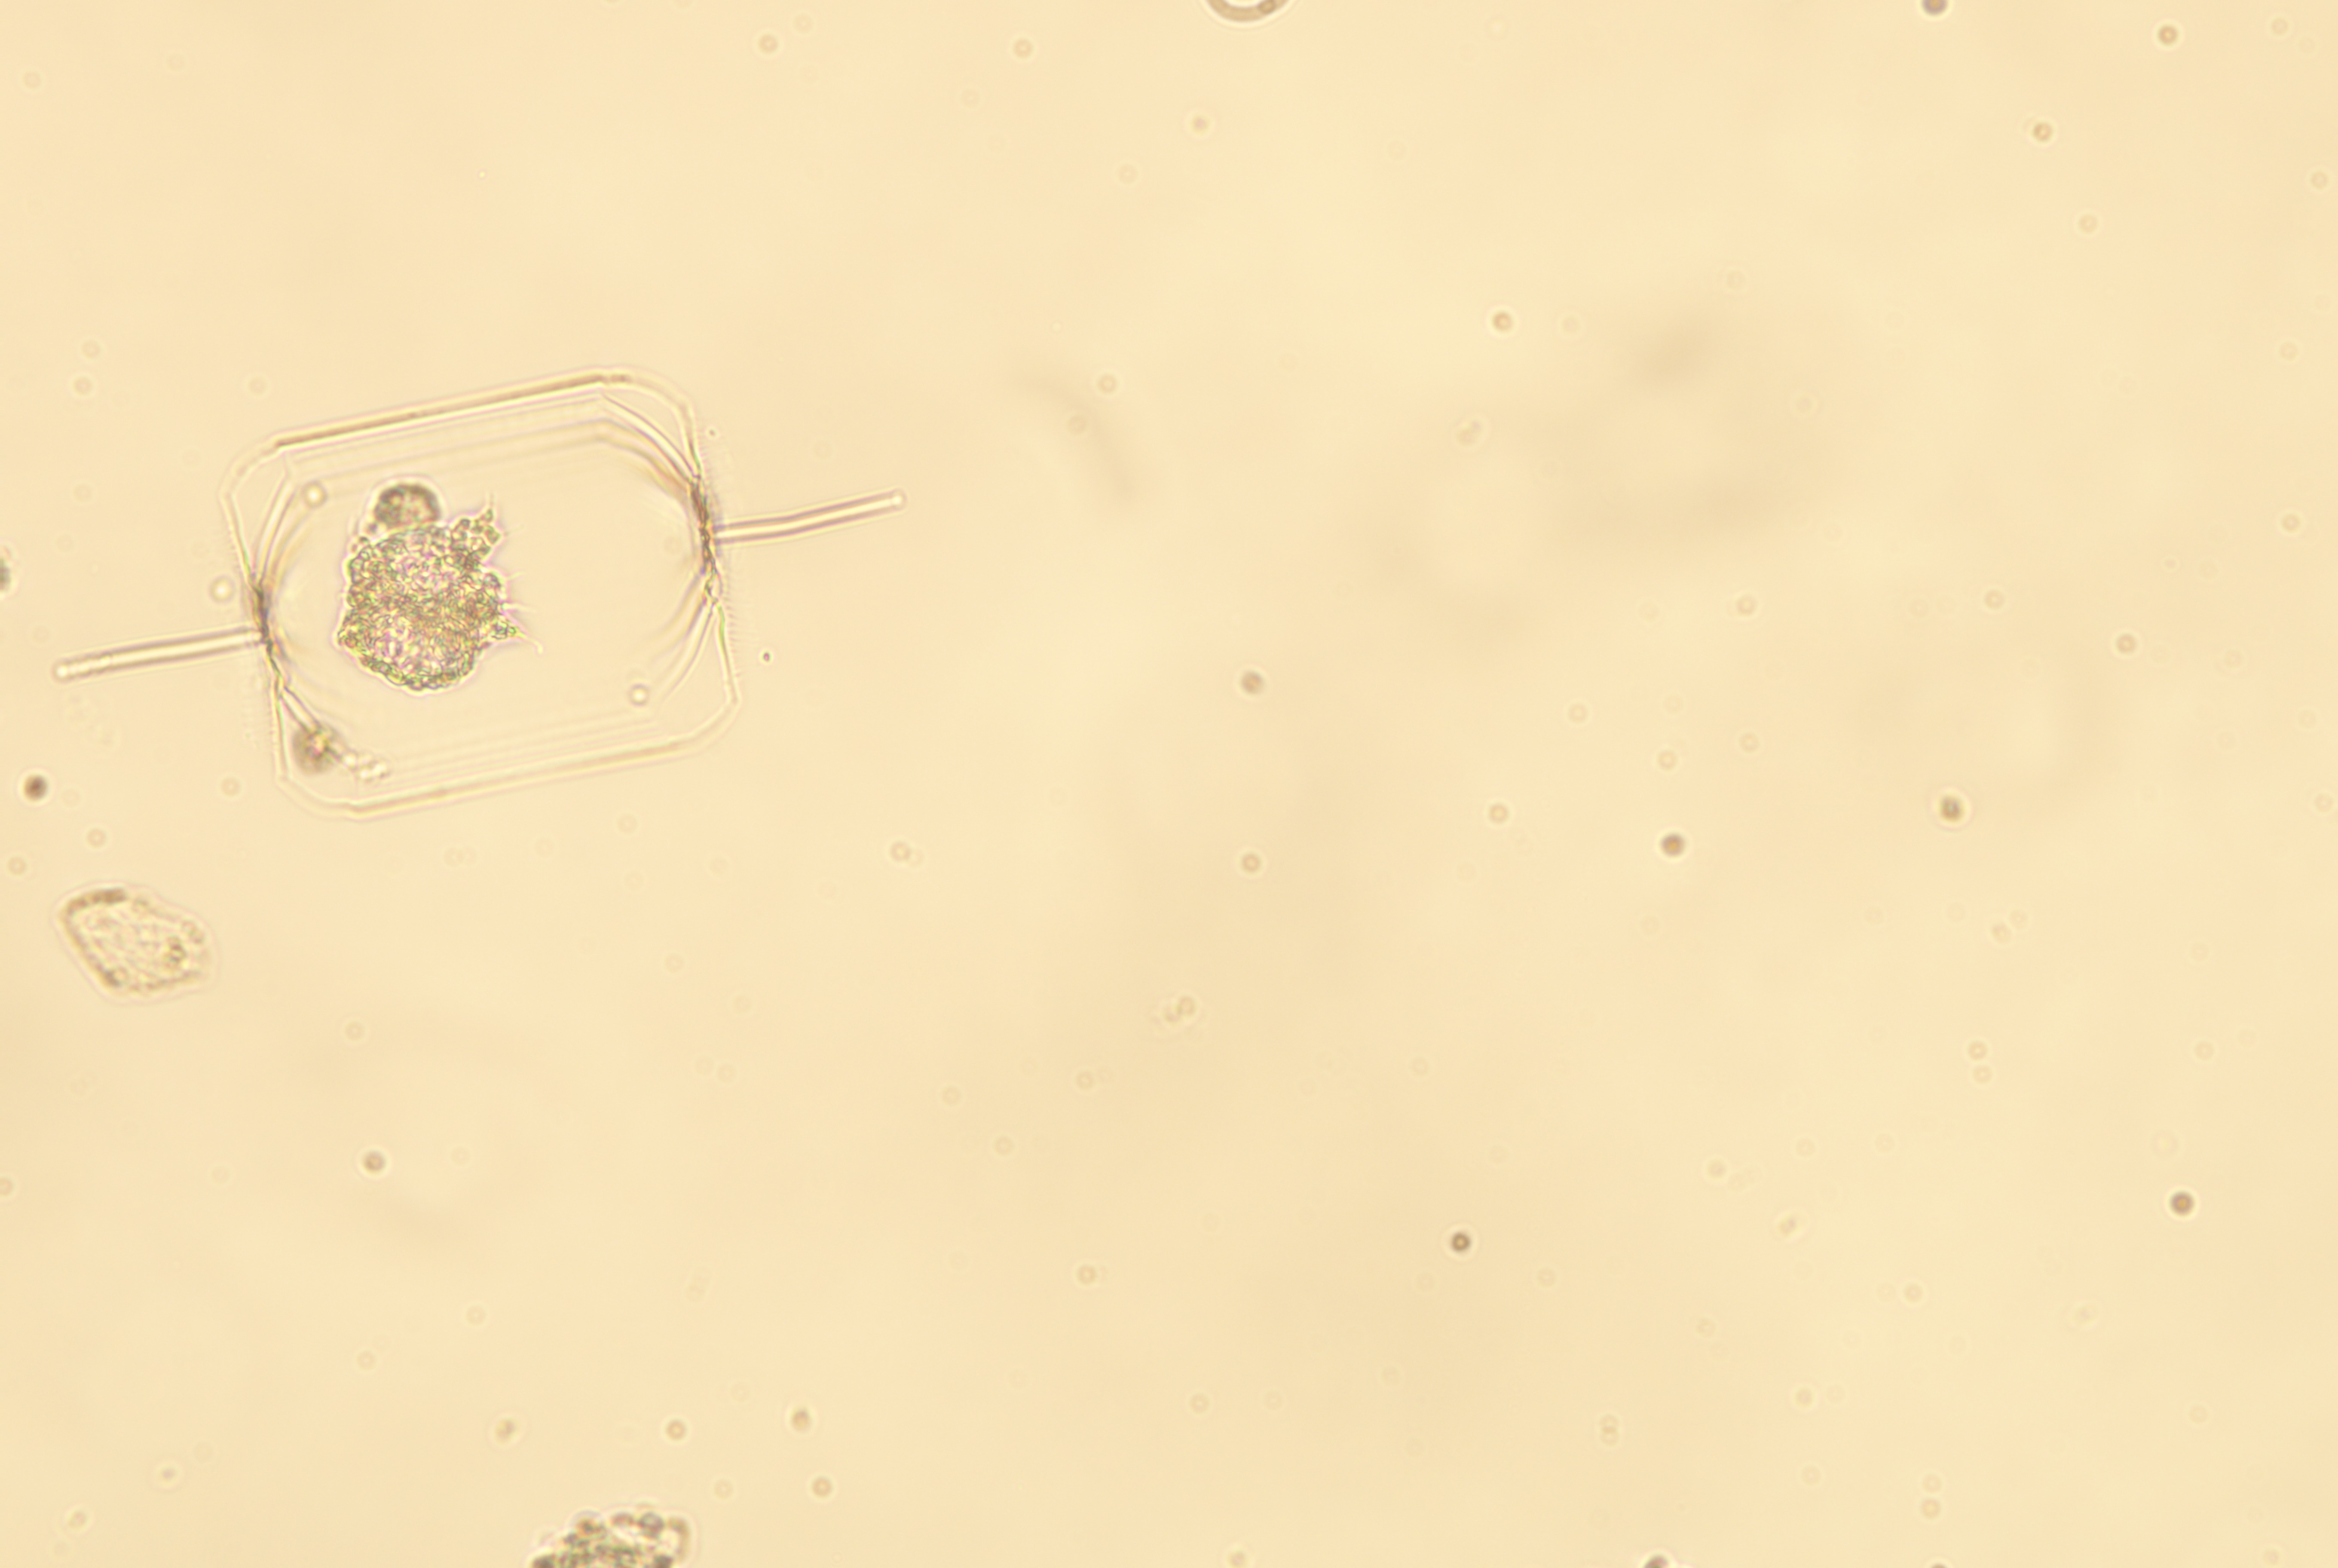ditylum: (49, 367, 908, 819)
